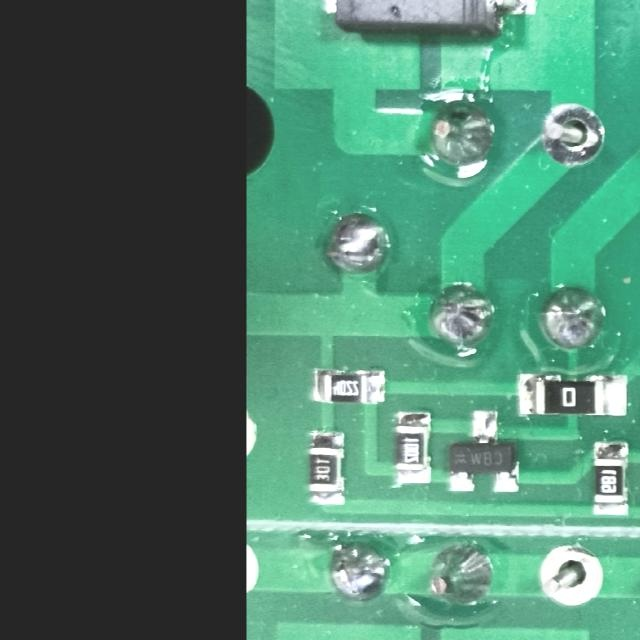chip-resistor: (516, 369, 631, 418), (593, 439, 631, 517), (309, 429, 347, 506), (310, 367, 387, 405), (391, 410, 430, 485)
transistor: (446, 408, 522, 494)
